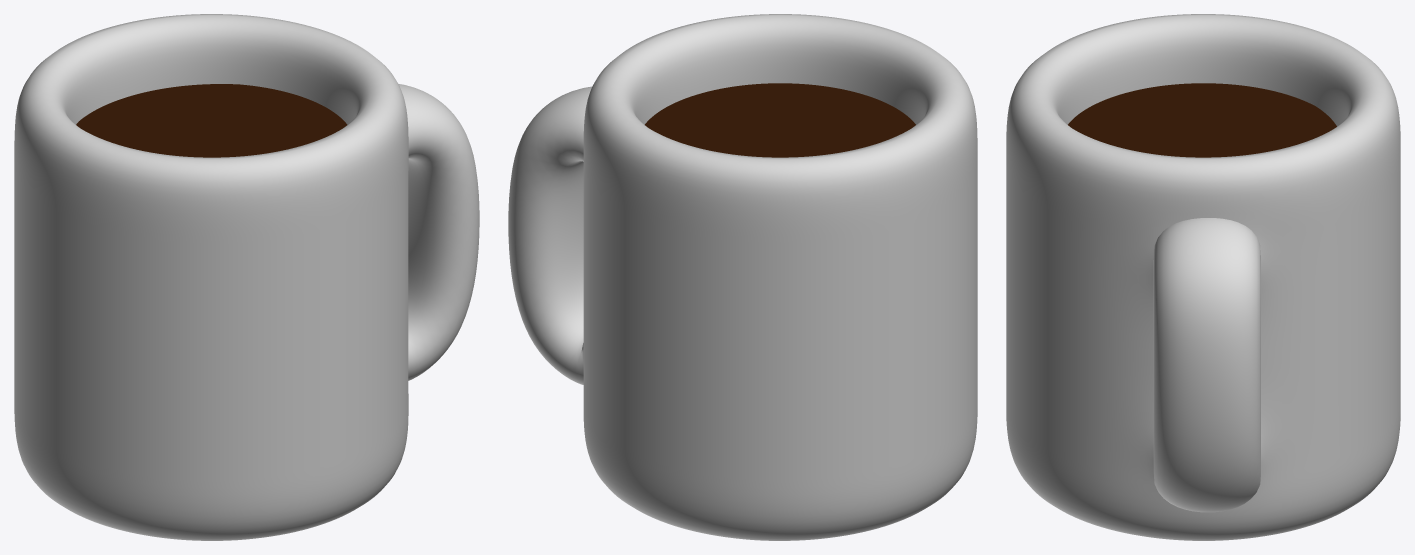
The model's file is mug_270321_smooth.fbx.
3 renders of one model, left to right at view 1: azimuth 30°, elevation 25°; view 2: azimuth 150°, elevation 25°; view 3: azimuth 270°, elevation 25°, orthographic.
Visible parts, largest first — view 1: cup, tea_or_cofefe; view 2: cup, tea_or_cofefe; view 3: cup, tea_or_cofefe.
Part boxes in pixels (x1,y1,x2,y2): cup: [14, 14, 479, 540]; tea_or_cofefe: [76, 84, 347, 157]; cup: [508, 14, 977, 540]; tea_or_cofefe: [645, 83, 915, 157]; cup: [1006, 14, 1400, 540]; tea_or_cofefe: [1068, 83, 1336, 157].
Size of the model in its own units: 413 by 354 by 329.
